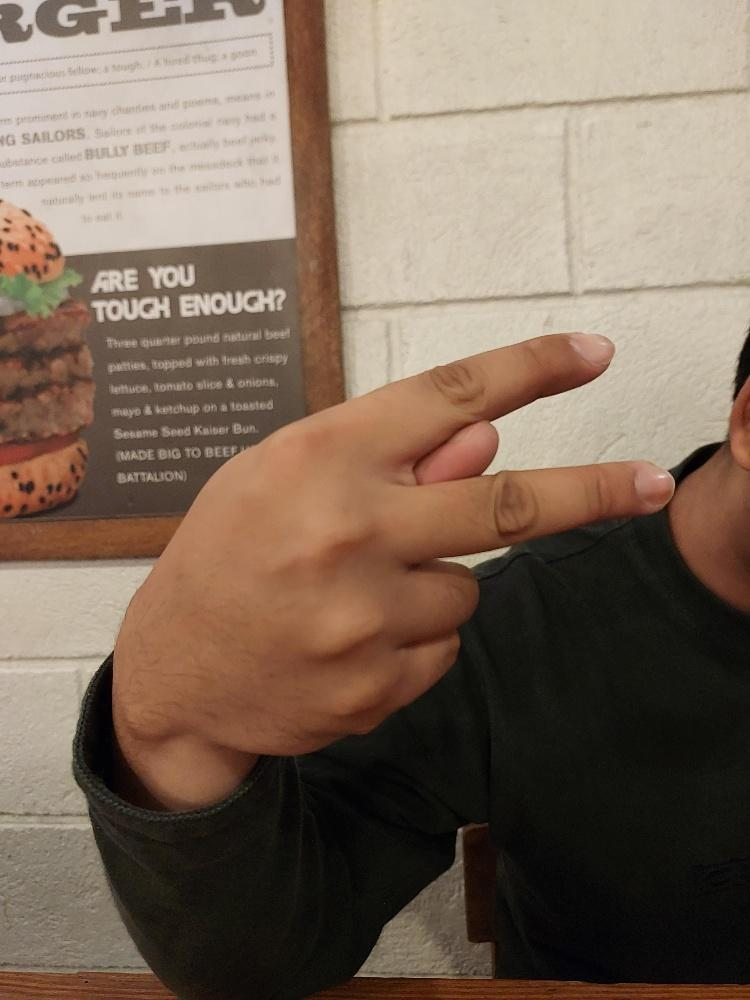k: (112, 327, 678, 759)
